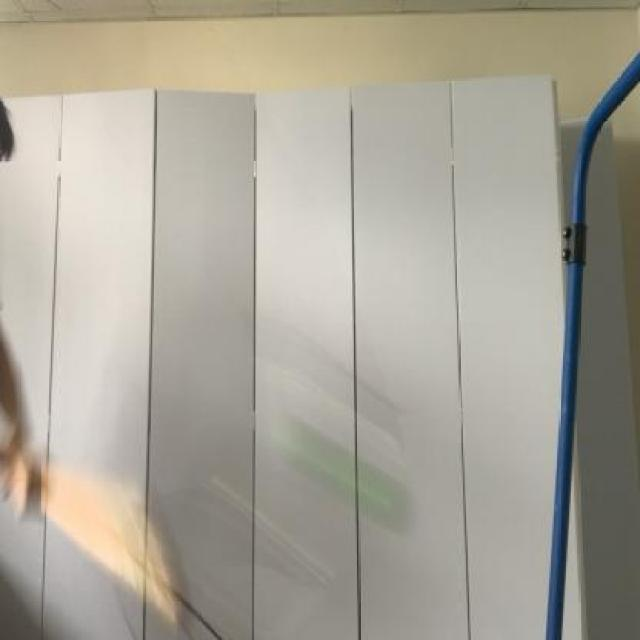baseball: (262, 407, 413, 535)
